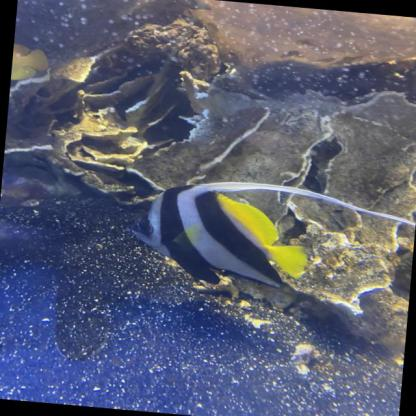fish: (126, 178, 314, 292)
